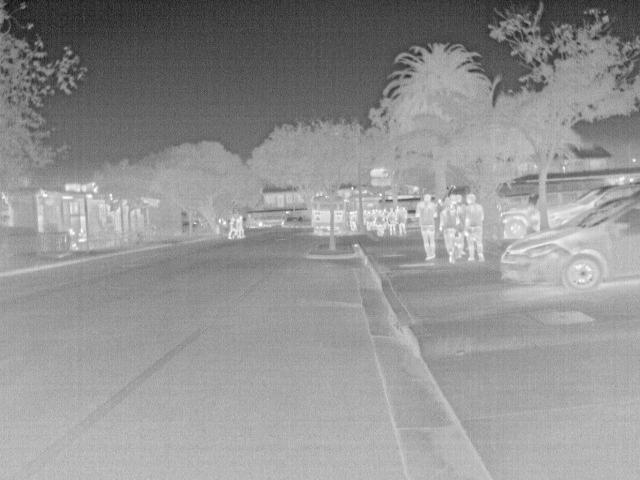car: (498, 193, 639, 289), (544, 180, 638, 230), (501, 205, 535, 243), (282, 214, 306, 230)
person: (462, 192, 488, 264), (438, 196, 461, 262), (416, 194, 438, 261), (394, 199, 408, 235), (384, 205, 399, 237), (363, 208, 377, 233), (226, 215, 238, 242), (373, 209, 385, 236), (235, 213, 247, 239), (75, 227, 88, 243)
